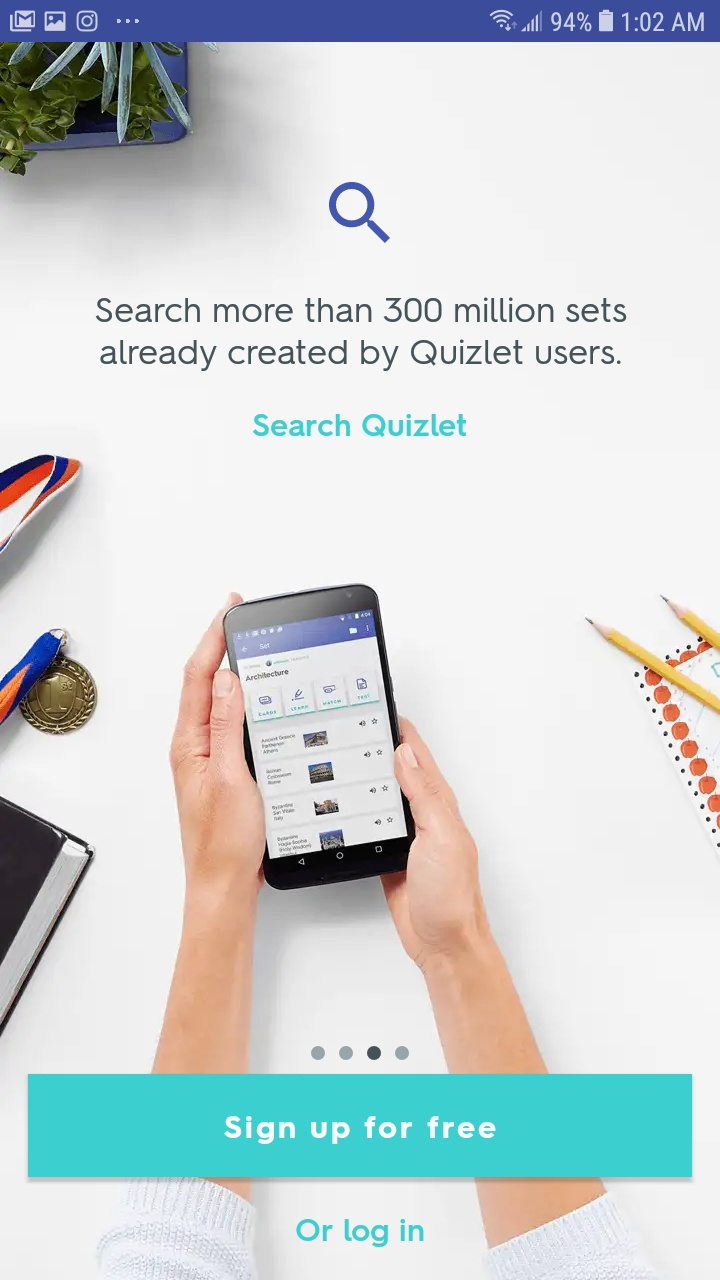BackgroundImage: (1, 43, 720, 1280)
Icon: (329, 182, 391, 244)
PageIndicator: (311, 1045, 410, 1061)
Text: (96, 298, 627, 372), (253, 414, 467, 438), (296, 1218, 425, 1248)
TextButton: (29, 1074, 692, 1177)
UpperTaskBar: (1, 1, 720, 43)
